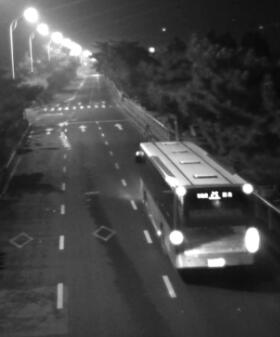bus: (135, 138, 260, 273)
